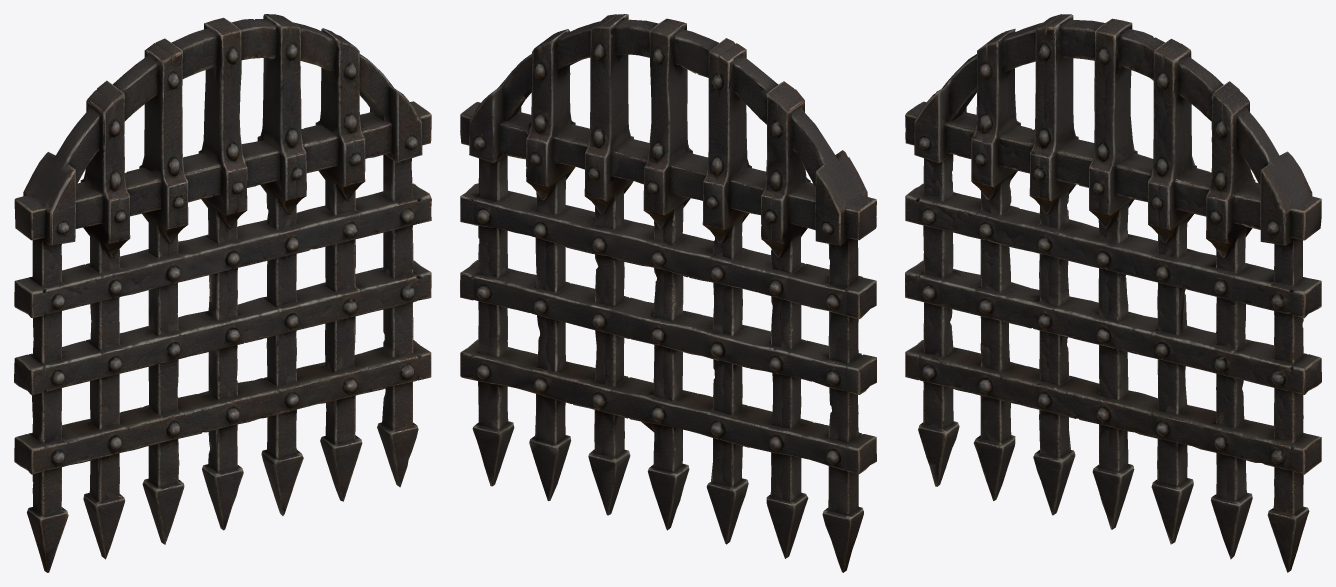
Rendered from Portcullis_Gate.fbx.
3 renders of one model, left to right at view 1: azimuth 30°, elevation 25°; view 2: azimuth 150°, elevation 25°; view 3: azimuth 330°, elevation 25°, orthographic.
Visible parts, largest first — view 1: tripo_node_469560f5-d0ef-4ae7-a834-689448046522; view 2: tripo_node_469560f5-d0ef-4ae7-a834-689448046522; view 3: tripo_node_469560f5-d0ef-4ae7-a834-689448046522.
Part boxes in pixels (<box>): tripo_node_469560f5-d0ef-4ae7-a834-689448046522: <box>14,14,431,572</box>; tripo_node_469560f5-d0ef-4ae7-a834-689448046522: <box>460,14,876,572</box>; tripo_node_469560f5-d0ef-4ae7-a834-689448046522: <box>905,14,1321,572</box>.
Size of the model in its own units: 208 by 249 by 31.38.
1 material, 1 textured.
